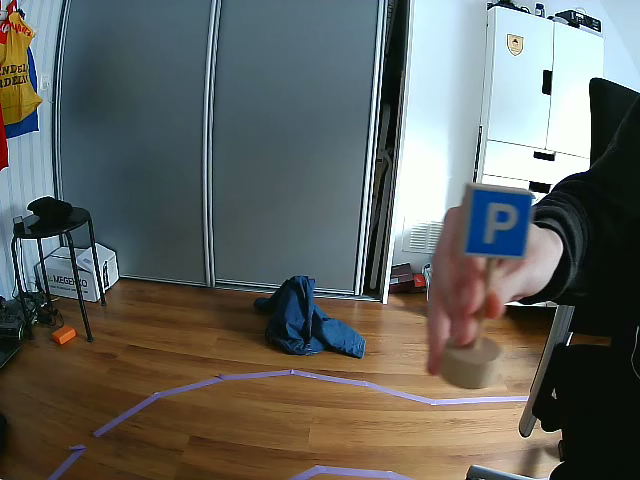parkeerbord: (462, 186, 532, 255)
